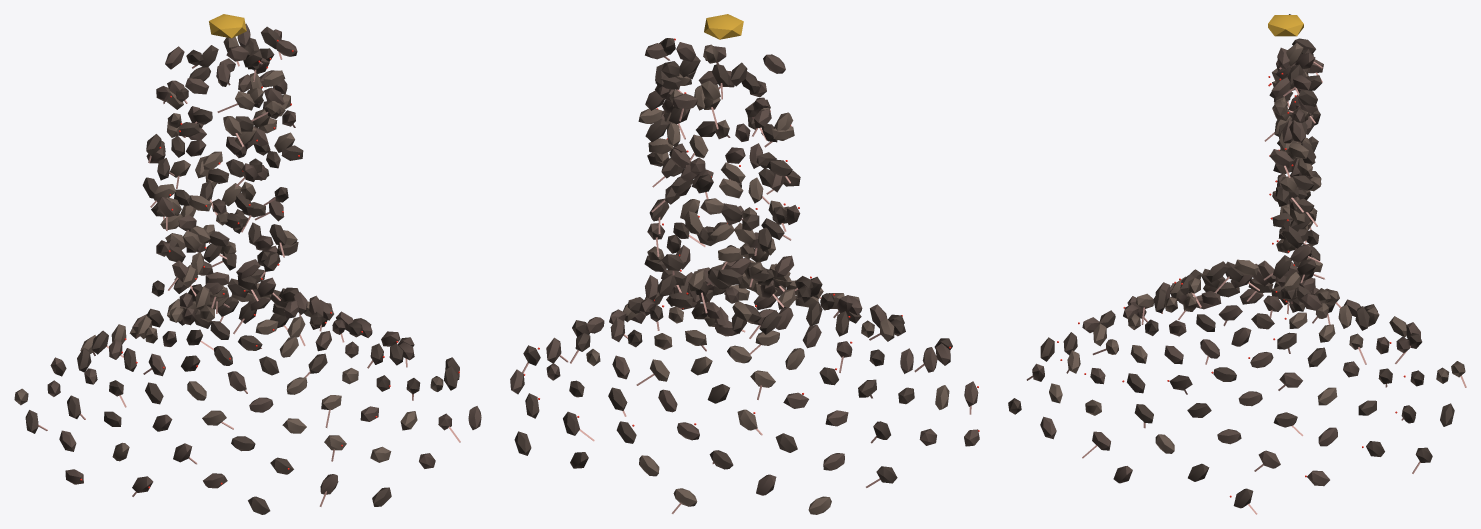
Rendered from rat_throne.glb.
The picture shows the model from 3 angles, left to right: view 1: azimuth 30°, elevation 25°; view 2: azimuth 150°, elevation 25°; view 3: azimuth 270°, elevation 25°; orthographic projection. The views are drawn at different scales.
Visible parts, largest first — view 1: rat_throne; view 2: rat_throne; view 3: rat_throne.
Boxes of the visible parts, <box> form: rat_throne: <box>14,14,481,514</box>; rat_throne: <box>510,14,979,514</box>; rat_throne: <box>1008,14,1466,514</box>.
Bounding box in the file's own units: 8.85 × 8.31 × 8.66.
